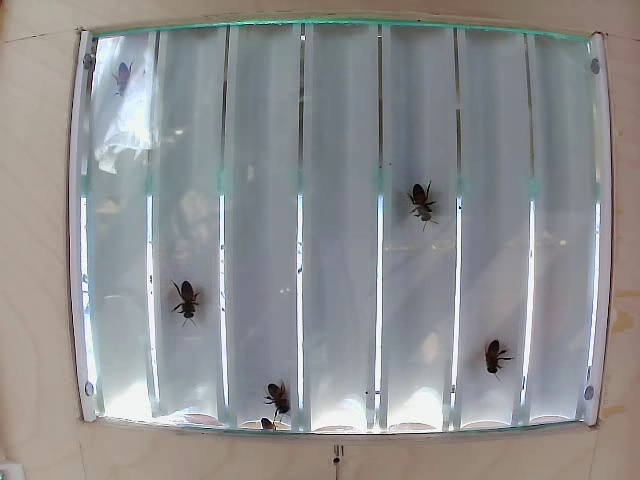bee: (468, 327, 519, 386), (166, 268, 213, 332), (254, 381, 324, 417), (110, 59, 145, 121), (401, 180, 437, 237)
